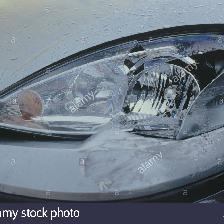head_lamp: (11, 25, 221, 157)
